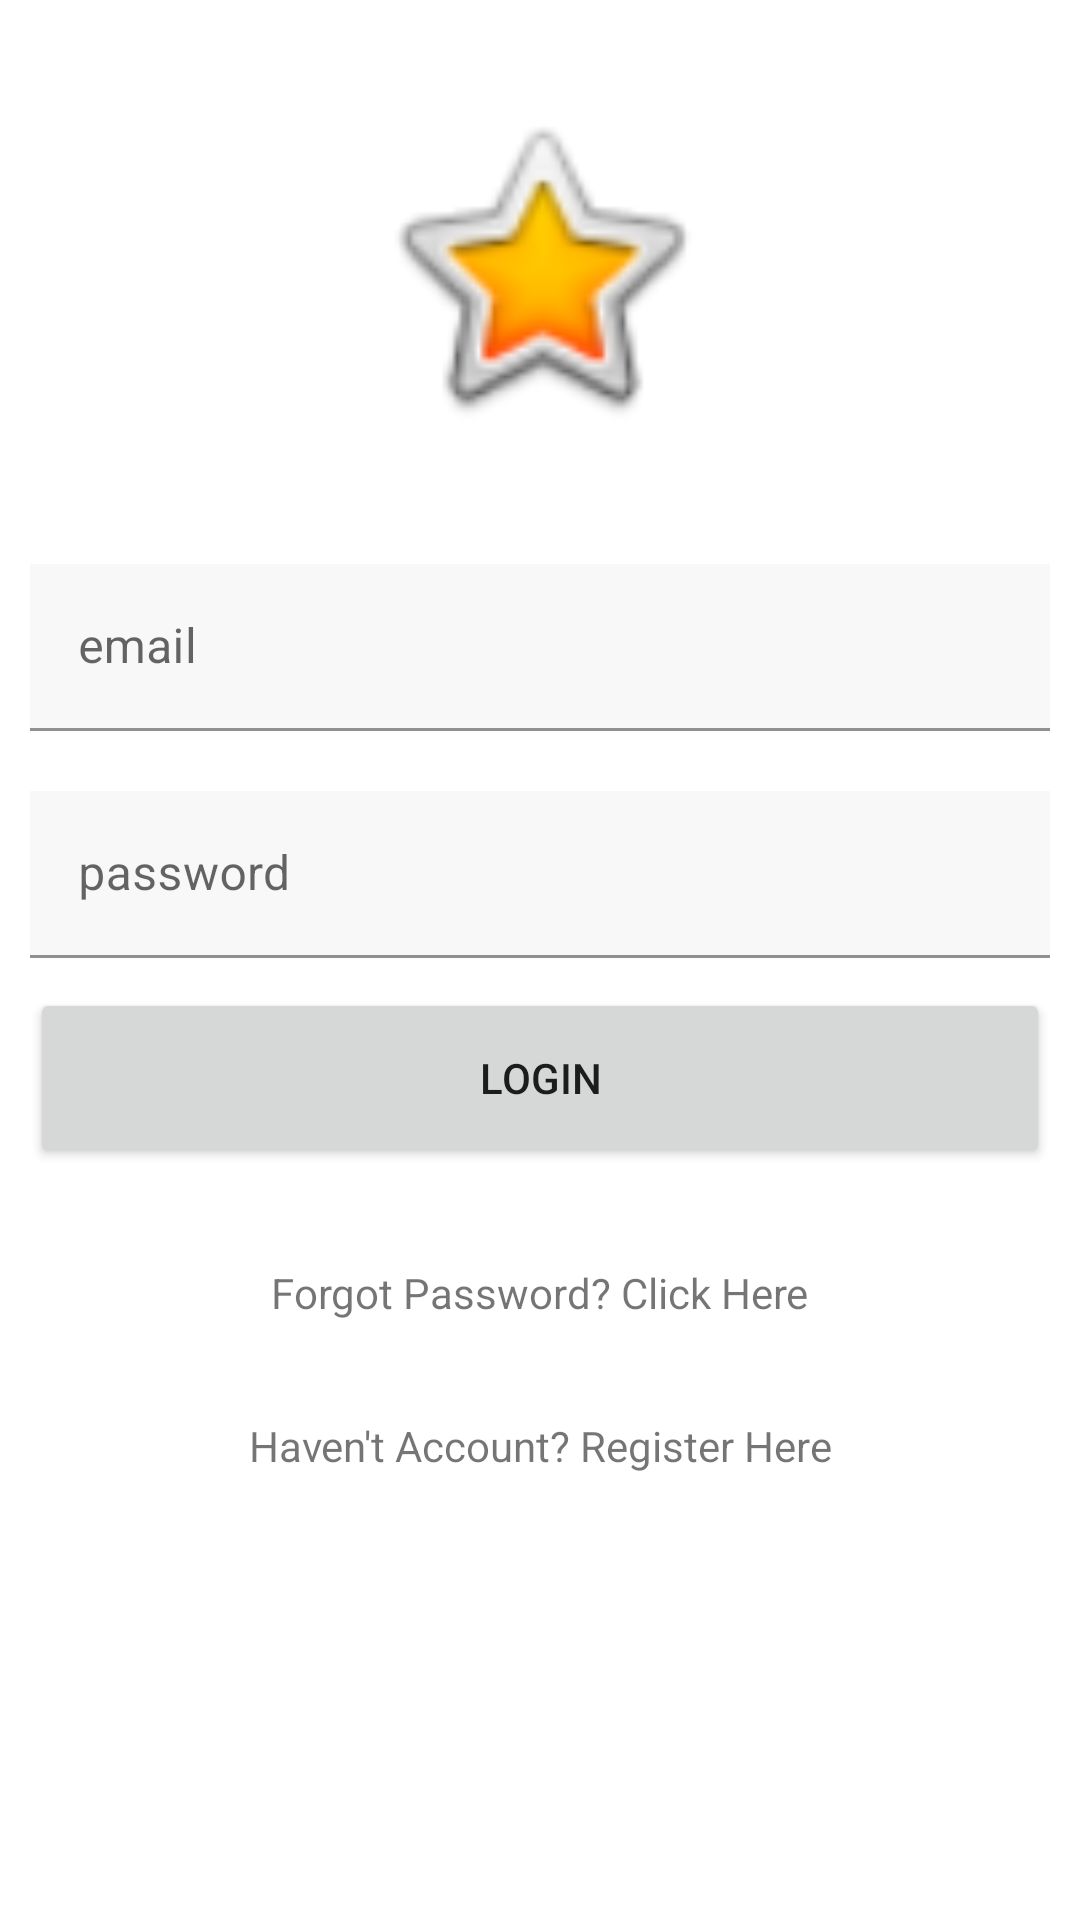

Locate icon controls on the screen. Image size 1080w x 1920h, boxes as (x1, y1, x2, y2).
star on: (400, 130, 686, 409)
